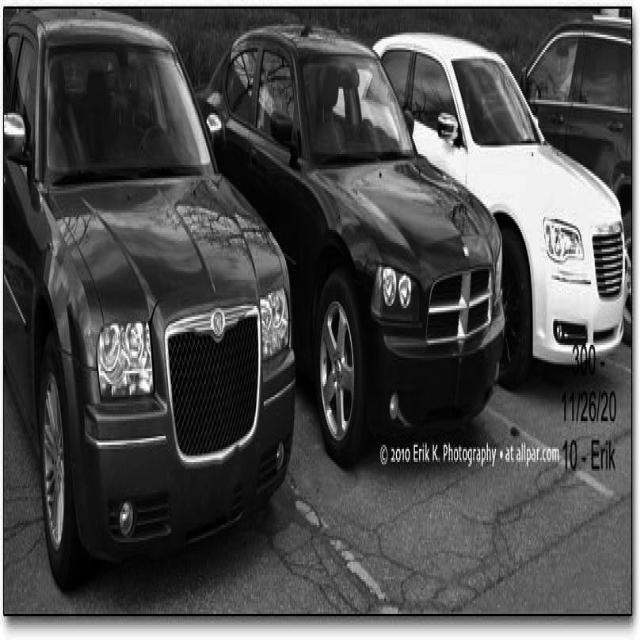car: (2, 9, 296, 592), (194, 21, 506, 468), (361, 31, 630, 388), (517, 13, 632, 343)
